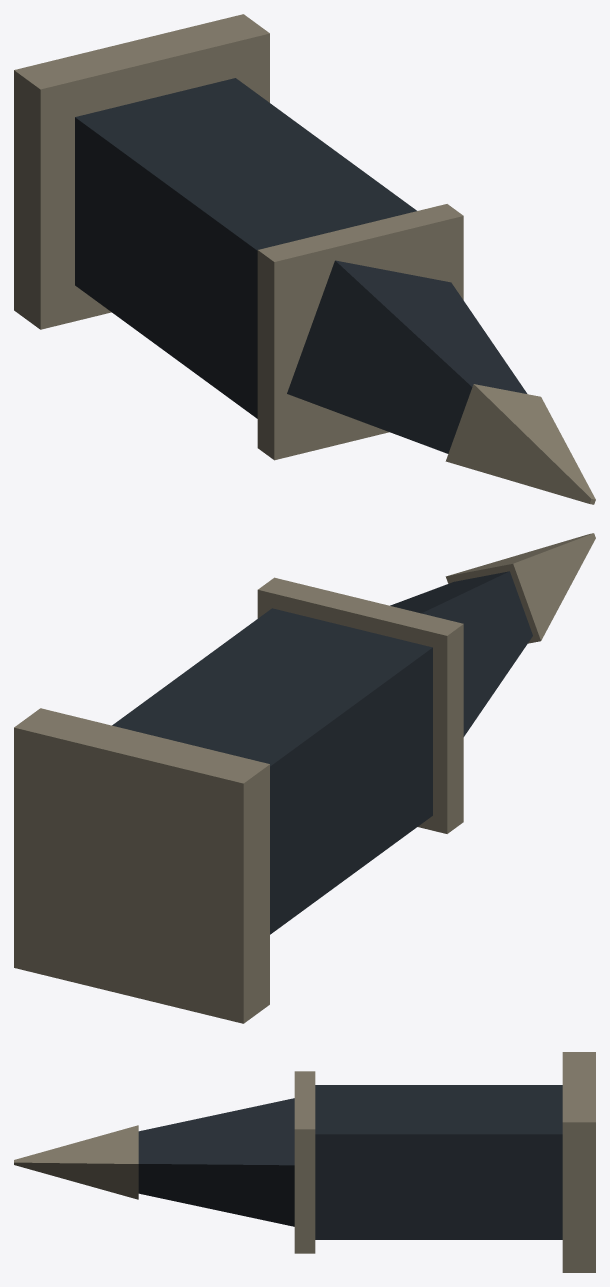
The model's file is SM_AEON_GateSpire_14m.obj.
3 renders of one model, top to bottom at view 1: azimuth 30°, elevation 25°; view 2: azimuth 150°, elevation 25°; view 3: azimuth 270°, elevation 25°, orthographic. The views are drawn at different scales.
Visible parts, largest first — view 1: SM_AEON_GateSpire_14m; view 2: SM_AEON_GateSpire_14m; view 3: SM_AEON_GateSpire_14m.
Boxes of the visible parts, left/top/right/bottom form: SM_AEON_GateSpire_14m: left=14, top=14, right=595, bottom=504; SM_AEON_GateSpire_14m: left=14, top=533, right=595, bottom=1023; SM_AEON_GateSpire_14m: left=14, top=1052, right=595, bottom=1272.
Bounding box in the file's own units: 400 × 400 × 1400.
